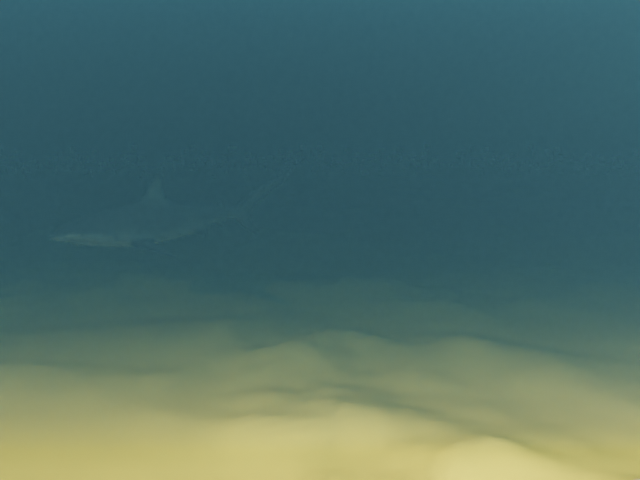Carribean Shark.001: (48, 173, 289, 257)
